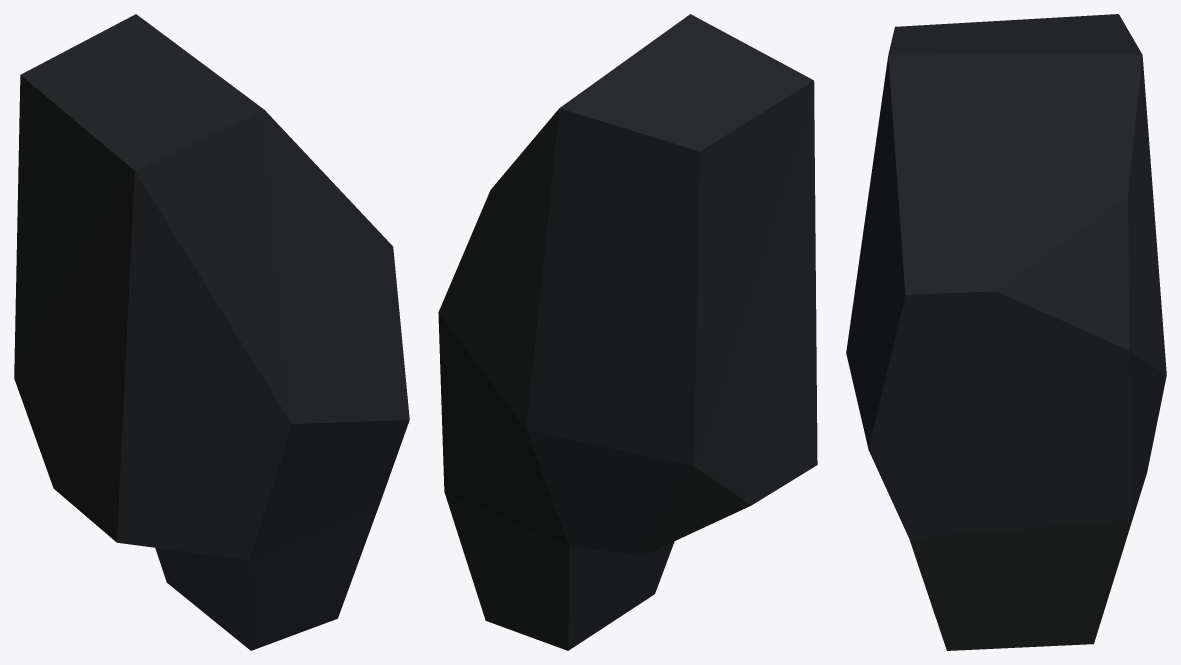
File: pit_rock_a.gltf
The picture shows the model from 3 angles, left to right: view 1: azimuth 30°, elevation 25°; view 2: azimuth 150°, elevation 25°; view 3: azimuth 270°, elevation 25°; orthographic projection. The views are drawn at different scales.
Parts seen in each view (by area): view 1: pit_rock_a; view 2: pit_rock_a; view 3: pit_rock_a.
Boxes of the visible parts, left/top/right/bottom form: pit_rock_a: left=14, top=14, right=409, bottom=650; pit_rock_a: left=438, top=14, right=817, bottom=650; pit_rock_a: left=846, top=14, right=1166, bottom=650.
Bounding box in the file's own units: 1.09 × 2.14 × 1.13.
Materials: 1 (1 with a texture image).
